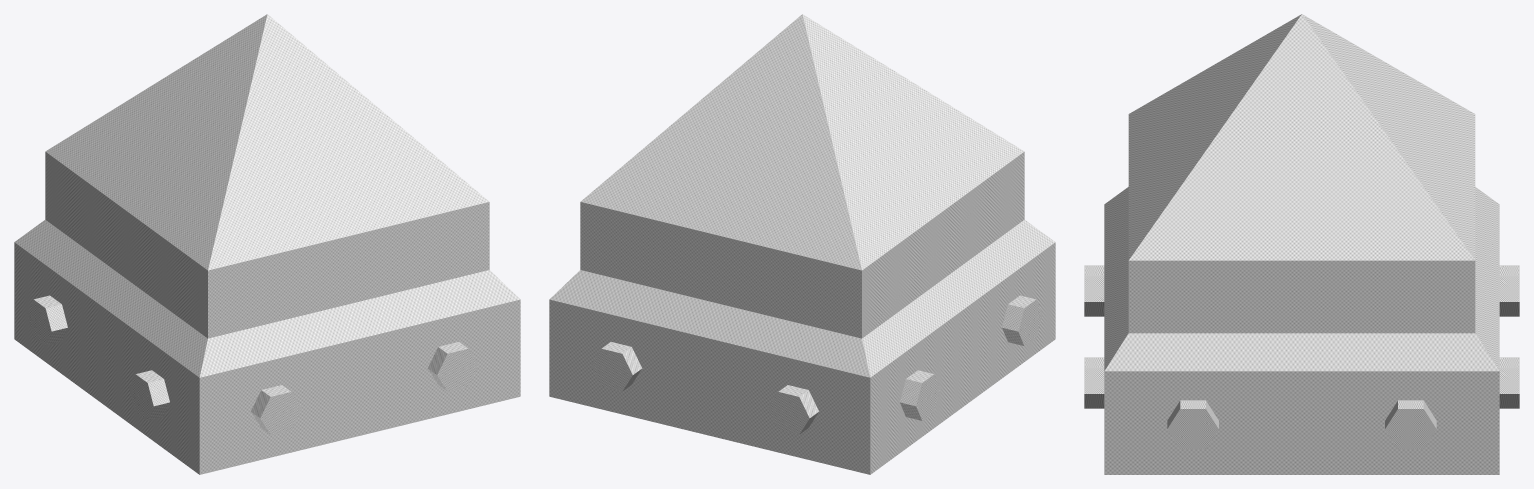
File: Generic_01.dae
3 renders of one model, left to right at view 1: azimuth 30°, elevation 25°; view 2: azimuth 150°, elevation 25°; view 3: azimuth 270°, elevation 25°, orthographic. The views are drawn at different scales.
Parts seen in each view (by area): view 1: Generic_01; view 2: Generic_01; view 3: Generic_01.
Boxes of the visible parts, left/top/right/bottom form: Generic_01: left=14, top=14, right=520, bottom=474; Generic_01: left=549, top=14, right=1055, bottom=474; Generic_01: left=1084, top=14, right=1519, bottom=474.
Bounding box in the file's own units: 2 × 1.91 × 2.
